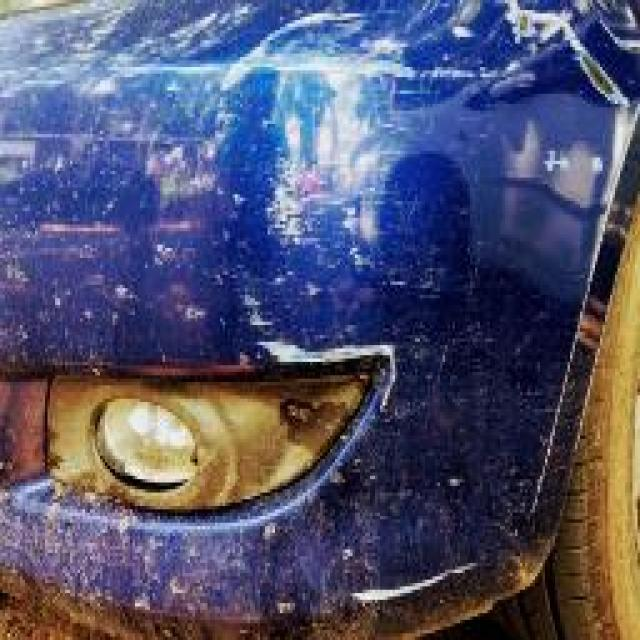Bumper: (2, 7, 585, 606)
